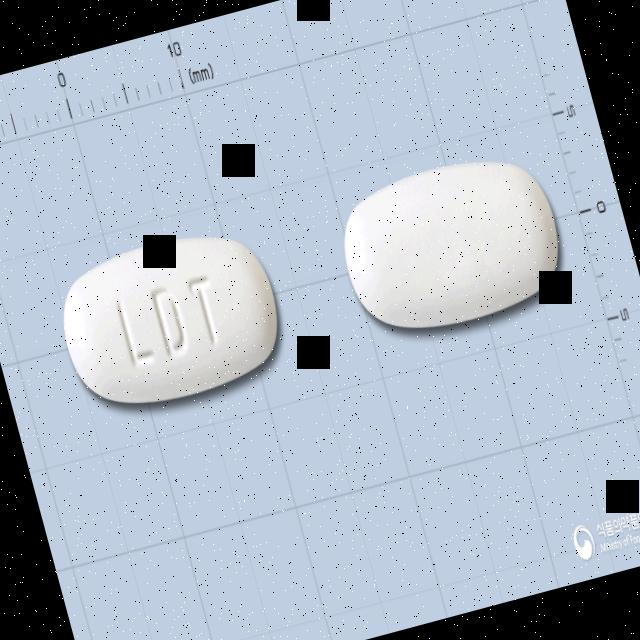Sebivo Tab: (47, 214, 296, 424)
